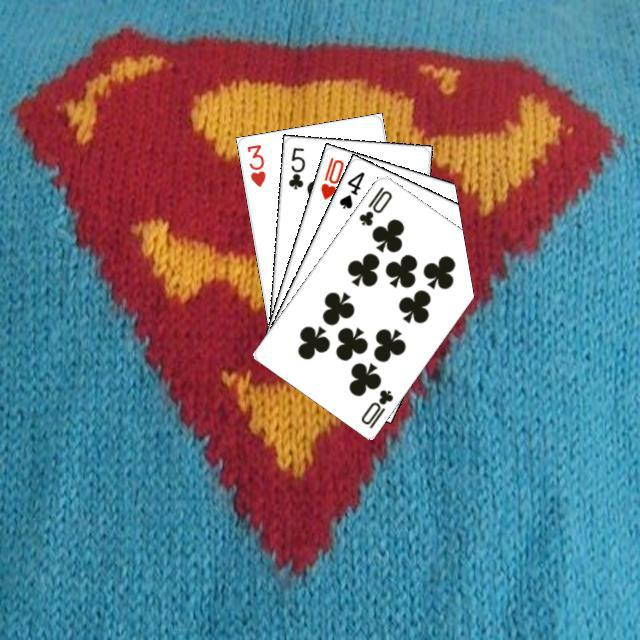10c: (354, 182, 394, 228), (356, 384, 395, 430)
10h: (316, 152, 346, 201)
3h: (242, 139, 267, 189)
4s: (334, 167, 366, 211)
5c: (284, 142, 306, 191)
